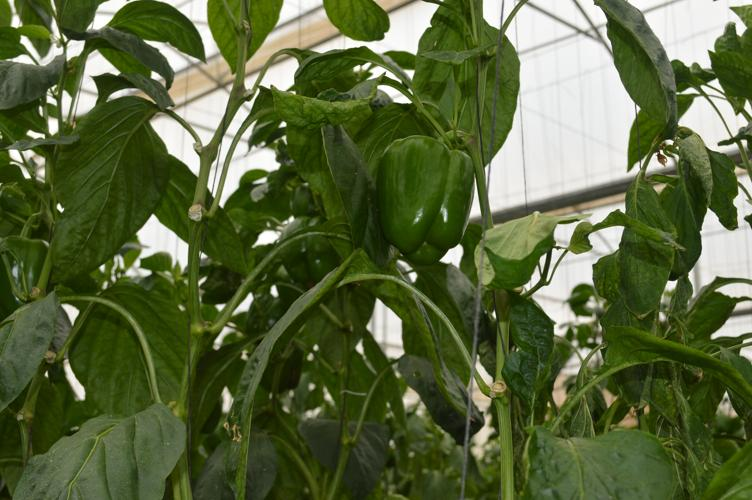BellPepper: (370, 128, 479, 269)
